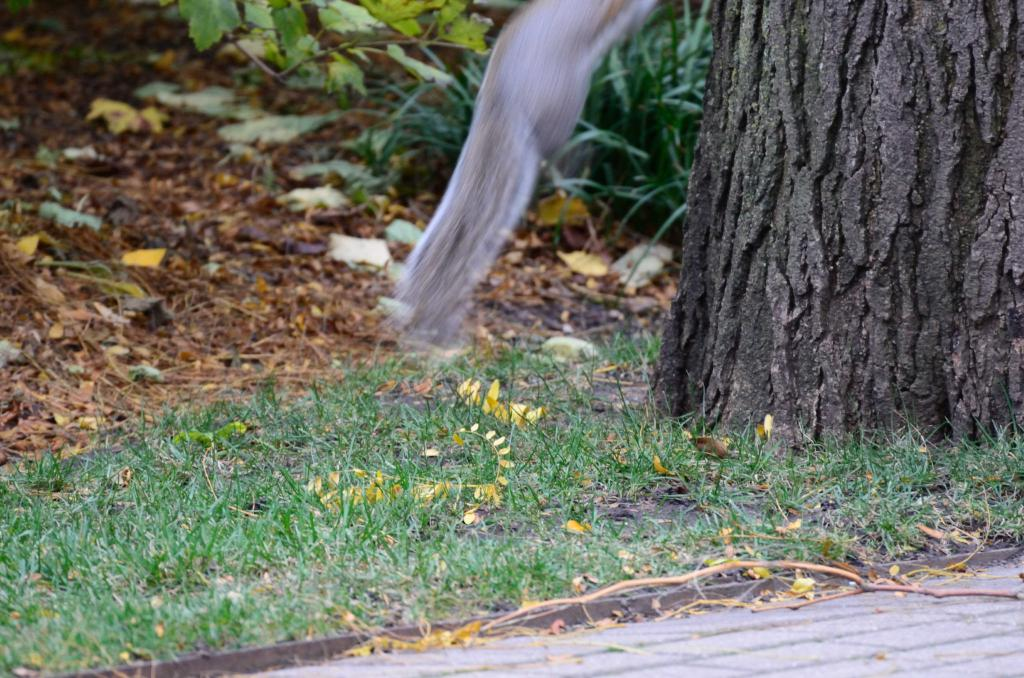Animal: (387, 0, 665, 360)
